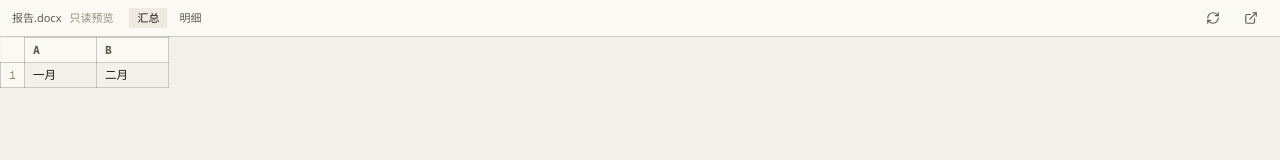
Test case: OfficeDocumentView › shows sheet tabs and switches the visible grid
This screenshot has width=1280, height=160.
Expected: the button "汇总" is shown, [130,8,168,28]
Expected: the text "一月" is shown, [24,63,96,88]
Click the button "明细" at coordinates (190, 18), box [172,8,210,28]
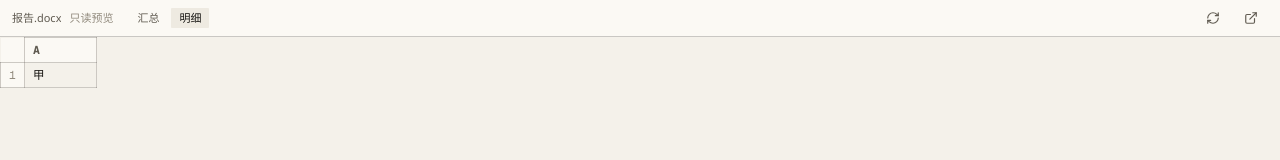
Expected: the text "甲" is shown, [24,63,96,88]
Expected: the text "一月" is gone
